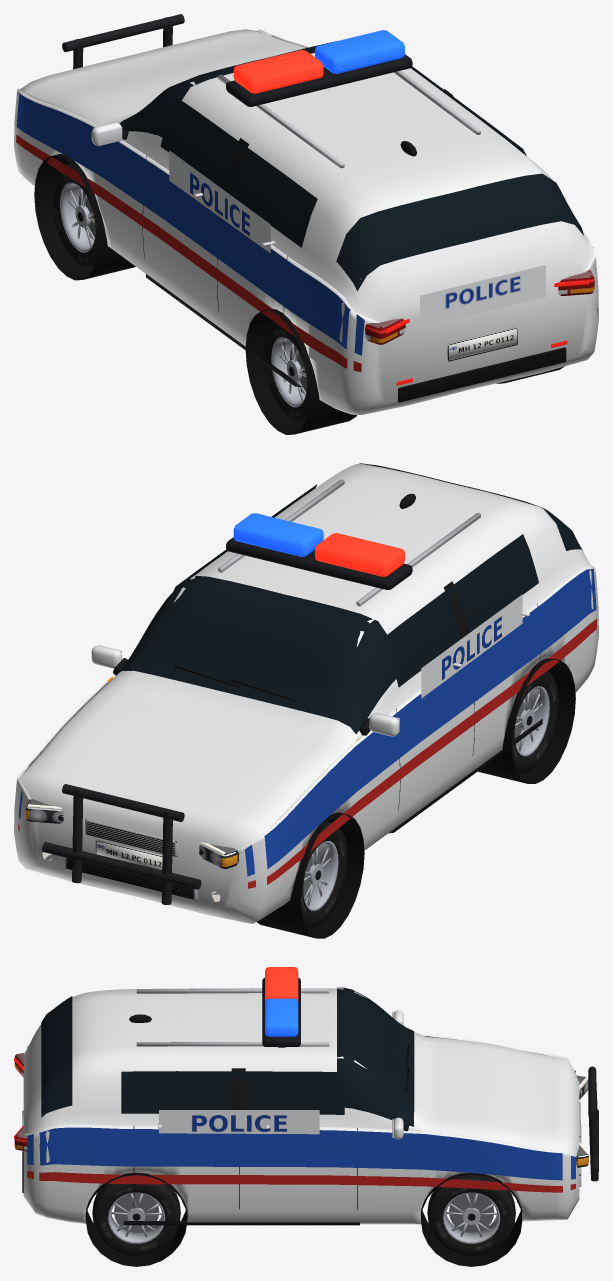
Rendered from policejeep.glb.
The picture shows the model from 3 angles, top to bottom: view 1: azimuth 30°, elevation 25°; view 2: azimuth 150°, elevation 25°; view 3: azimuth 270°, elevation 25°; orthographic projection. The views are drawn at different scales.
Visible parts, largest first — view 1: suv_PolicePaint, suv_Glass, suv_Parts, suv_LiveryBlue, suv_PoliceDecalRear, suv_LiveryRed, suv_Tyre, suv_PoliceDecal, suv_Siren_R, suv_Siren_B, suv_LightBar, suv_BullBar; view 2: suv_PolicePaint, suv_Glass, suv_Parts, suv_LiveryBlue, suv_BullBar, suv_LiveryRed, suv_Tyre, suv_PoliceDecal, suv_Siren_R, suv_Siren_B, suv_LightBar; view 3: suv_PolicePaint, suv_Glass, suv_LiveryBlue, suv_Parts, suv_Tyre, suv_LiveryRed, suv_PoliceDecal, suv_Siren_B, suv_Siren_R, suv_BullBar, suv_LightBar.
Part boxes in pixels (x1,y1,x2,y2): suv_PolicePaint: [14, 29, 598, 414]; suv_Glass: [120, 41, 583, 290]; suv_Parts: [34, 70, 594, 434]; suv_LiveryBlue: [16, 93, 596, 355]; suv_PoliceDecalRear: [420, 265, 545, 327]; suv_LiveryRed: [16, 134, 597, 372]; suv_Tyre: [51, 163, 309, 424]; suv_PoliceDecal: [169, 150, 270, 253]; suv_Siren_R: [233, 50, 323, 93]; suv_Siren_B: [315, 30, 404, 73]; suv_LightBar: [226, 54, 412, 106]; suv_BullBar: [62, 14, 184, 69]; suv_PolicePaint: [14, 464, 598, 923]; suv_Glass: [116, 463, 582, 733]; suv_Parts: [25, 479, 575, 938]; suv_LiveryBlue: [19, 568, 596, 876]; suv_BullBar: [42, 784, 201, 904]; suv_LiveryRed: [18, 619, 596, 888]; suv_Tyre: [300, 671, 558, 928]; suv_PoliceDecal: [421, 594, 522, 698]; suv_Siren_R: [315, 533, 404, 576]; suv_Siren_B: [233, 513, 323, 556]; suv_LightBar: [226, 537, 412, 589]; suv_PolicePaint: [23, 988, 579, 1224]; suv_Glass: [41, 987, 414, 1126]; suv_LiveryBlue: [27, 1046, 575, 1180]; suv_Parts: [14, 988, 588, 1266]; suv_Tyre: [92, 1175, 515, 1255]; suv_LiveryRed: [27, 1171, 575, 1192]; suv_PoliceDecal: [159, 1110, 319, 1134]; suv_Siren_B: [265, 998, 298, 1036]; suv_Siren_R: [265, 967, 298, 1001]; suv_BullBar: [588, 1066, 598, 1181]; suv_LightBar: [262, 977, 300, 1047].
Size of the model in its own units: 2.18 by 1.89 by 4.56.
13 materials, 5 textured.
